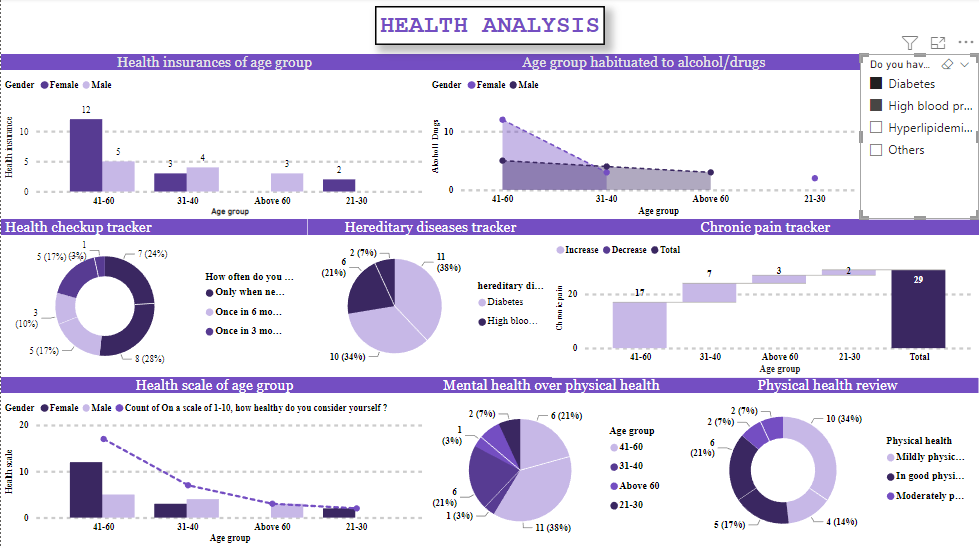

This screenshot's page, from the dashboard's own definition file:
{"tool":"powerbi","page":{"name":"Page 2","canvas":[1280,720],"ordinal":1},"visuals":[{"type":"areaChart","title":"Age group habituated to alcohol/drugs ","fields":{"Category":["Health Analysis.Age group"],"Y":["CountNonNull(Health Analysis.Are you habituated to alcohol/drugs ?)"],"Series":["Health Analysis.Gender"]},"box":[558.7,72.8,565.5,216.7],"z":0},{"type":"slicer","fields":{"Values":["Health Analysis.Do you have any hereditary conditions/ diseases ?"]},"box":[1124.2,72.8,155.8,216.7],"z":1000},{"type":"clusteredColumnChart","title":"Health insurances of age group","fields":{"Series":["Health Analysis.Gender"],"Category":["Health Analysis.Age group"],"Y":["CountNonNull(Health Analysis.Do you have a health insurance ? )"]},"box":[0,72.8,558.7,216.7],"z":2000},{"type":"pieChart","title":"Hereditary diseases tracker","fields":{"Series":["Health Analysis.Gender"],"Category":["Health Analysis.Do you have any hereditary conditions/ diseases ?"],"Y":["CountNonNull(Health Analysis.Gender)"]},"box":[401.3,289.5,320,206.6],"z":3000},{"type":"donutChart","title":"Health checkup tracker","fields":{"Series":["Health Analysis.Gender"],"Y":["CountNonNull(Health Analysis.Gender)"],"Category":["Health Analysis.How often do you get a health checkup ? "]},"box":[0,289.5,401.3,206.6],"z":4000},{"type":"lineClusteredColumnComboChart","title":"Health scale of age group","fields":{"Category":["Health Analysis.Age group"],"Series":["Health Analysis.Gender"],"Y":["CountNonNull(Health Analysis.On a scale of 1-10, how healthy do you consider yourself ?)"],"Y2":["CountNonNull(Health Analysis.On a scale of 1-10, how healthy do you consider yourself ?)"]},"box":[0,496.1,558.7,223.5],"z":5000},{"type":"donutChart","title":"Physical health review ","fields":{"Y":["CountNonNull(Health Analysis.Gender)"],"Series":["Health Analysis.Gender"],"Category":["Health Analysis.Would you say you are :"]},"box":[883.8,496.1,396.2,223.5],"z":6000},{"type":"pieChart","title":"Mental health over physical health","fields":{"Category":["Health Analysis.Age group"],"Y":["CountNonNull(Health Analysis.Does your mental well being has an affect on your physical health ?)"],"Series":["Health Analysis.Does your mental well being has an affect on your physical health ?"]},"box":[558.3,495.9,325.5,223],"z":7000},{"type":"waterfallChart","title":"Chronic pain tracker ","fields":{"Category":["Health Analysis.Age group"],"Y":["CountNonNull(Health Analysis.Do you experience any chronic pain ?)"]},"box":[721.3,289.5,558.7,208.3],"z":8000},{"type":"shape","box":[489,11.1,300.6,51.3],"z":9000}]}

Visuals, with their boxes in screenshot pixels (x1, y1, x2, y2), scaled from the page's 1280x720 canvas onto the 979x547 screenshot:
"Age group habituated to alcohol/drugs " areaChart: (left=427, top=55, right=860, bottom=220)
slicer - Health Analysis.Do you have any hereditary conditions/ diseases ?: (left=860, top=55, right=978, bottom=220)
"Health insurances of age group" clusteredColumnChart: (left=0, top=55, right=427, bottom=220)
"Hereditary diseases tracker" pieChart: (left=307, top=220, right=552, bottom=377)
"Health checkup tracker" donutChart: (left=0, top=220, right=307, bottom=377)
"Health scale of age group" lineClusteredColumnComboChart: (left=0, top=377, right=427, bottom=546)
"Physical health review " donutChart: (left=676, top=377, right=978, bottom=546)
"Mental health over physical health" pieChart: (left=427, top=377, right=676, bottom=546)
"Chronic pain tracker " waterfallChart: (left=552, top=220, right=978, bottom=378)
shape: (left=374, top=8, right=604, bottom=47)
